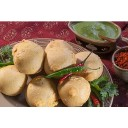bonda: (12, 41, 44, 73), (46, 39, 74, 75), (26, 77, 58, 108), (59, 76, 92, 106), (1, 67, 27, 96), (77, 51, 103, 79)
